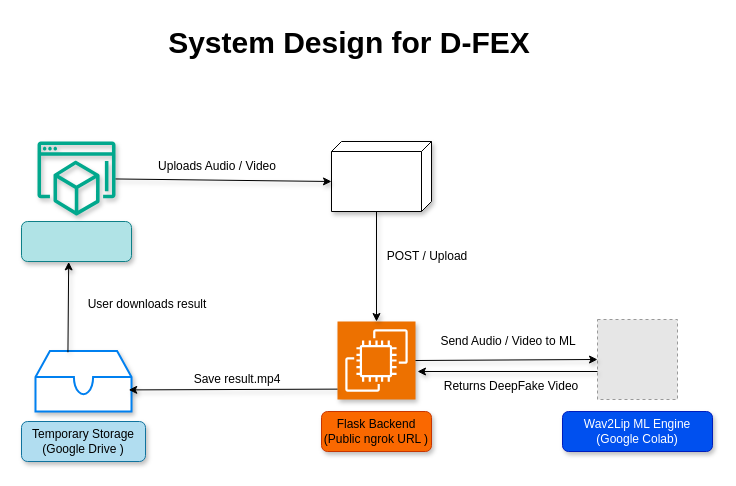
Image size: 736x486. Some labels were removed from this diagram. Grey dashed boxes stand in for pictures. Here are the shapes that lost their labels. From the top down, the centre of each, then its label:
At pixel 382 177: "React Frontend".
At pixel 77 242: "User Browser (React App )".
